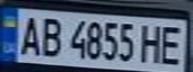4: (66, 17, 87, 60)
5: (118, 20, 139, 63), (103, 19, 121, 62)
8: (84, 18, 106, 61)
A: (15, 12, 45, 56)
B: (36, 15, 66, 57)
E: (157, 22, 187, 65)
H: (136, 20, 166, 64)
